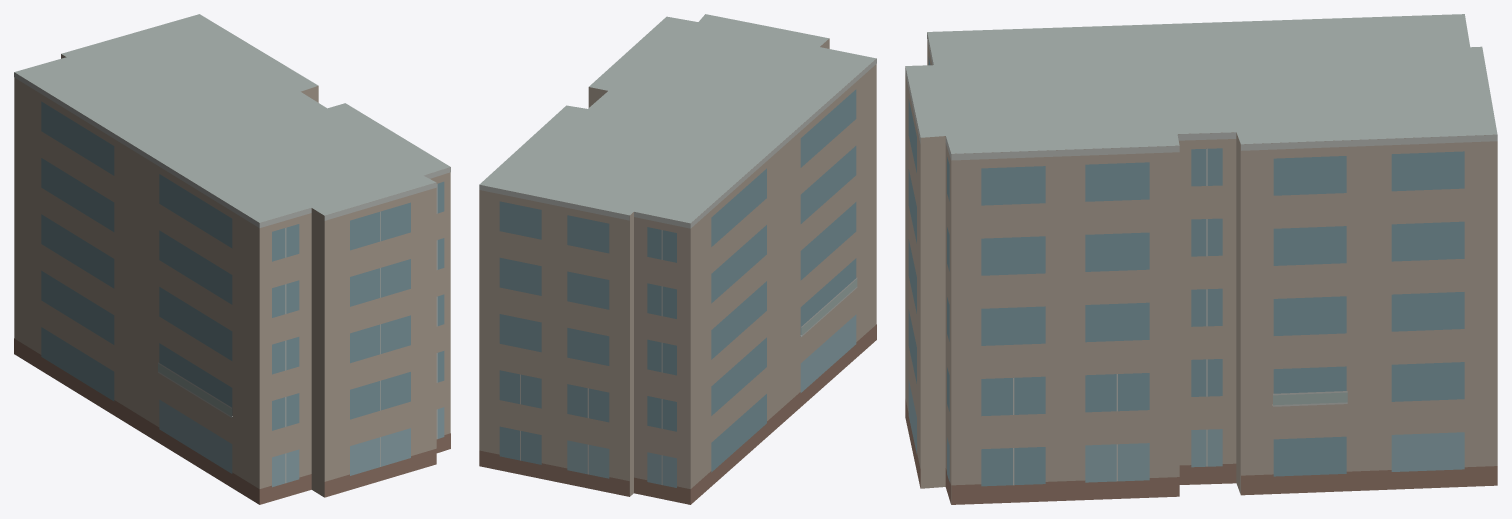
Rendered from survey-upis-32620414.glb.
The picture shows the model from 3 angles, left to right: view 1: azimuth 30°, elevation 25°; view 2: azimuth 150°, elevation 25°; view 3: azimuth 270°, elevation 25°; orthographic projection. The views are drawn at different scales.
Parts seen in each view (by area): view 1: survey-upis-32620414.tmp; view 2: survey-upis-32620414.tmp; view 3: survey-upis-32620414.tmp.
Boxes of the visible parts, x1=… form: survey-upis-32620414.tmp: x1=14, y1=14, x2=450, y2=504; survey-upis-32620414.tmp: x1=479, y1=14, x2=876, y2=504; survey-upis-32620414.tmp: x1=905, y1=14, x2=1497, y2=504.
Size of the model in its own units: 11.12 by 13 by 19.89.
